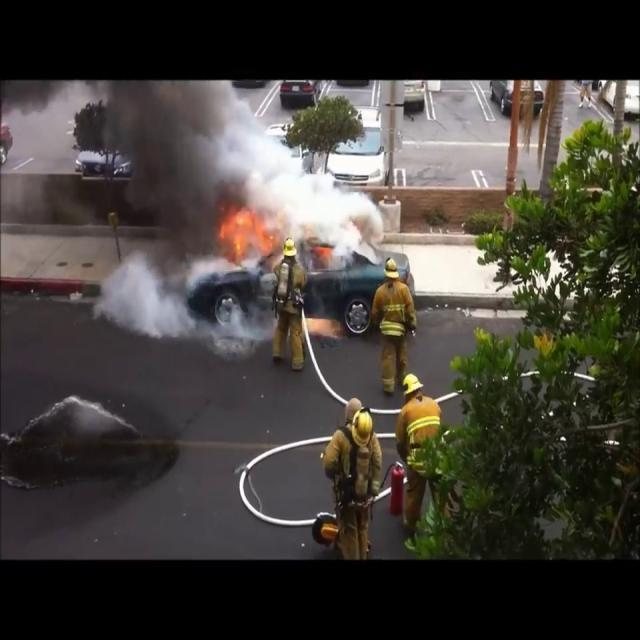Fire: (215, 203, 299, 265)
Smoke: (0, 80, 371, 258)
